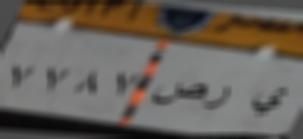7: (41, 62, 70, 100), (8, 60, 38, 92), (114, 66, 138, 100)
8: (74, 68, 100, 103)
raa: (207, 82, 233, 112)
saad: (147, 79, 206, 110)
yaa: (251, 82, 289, 122)
